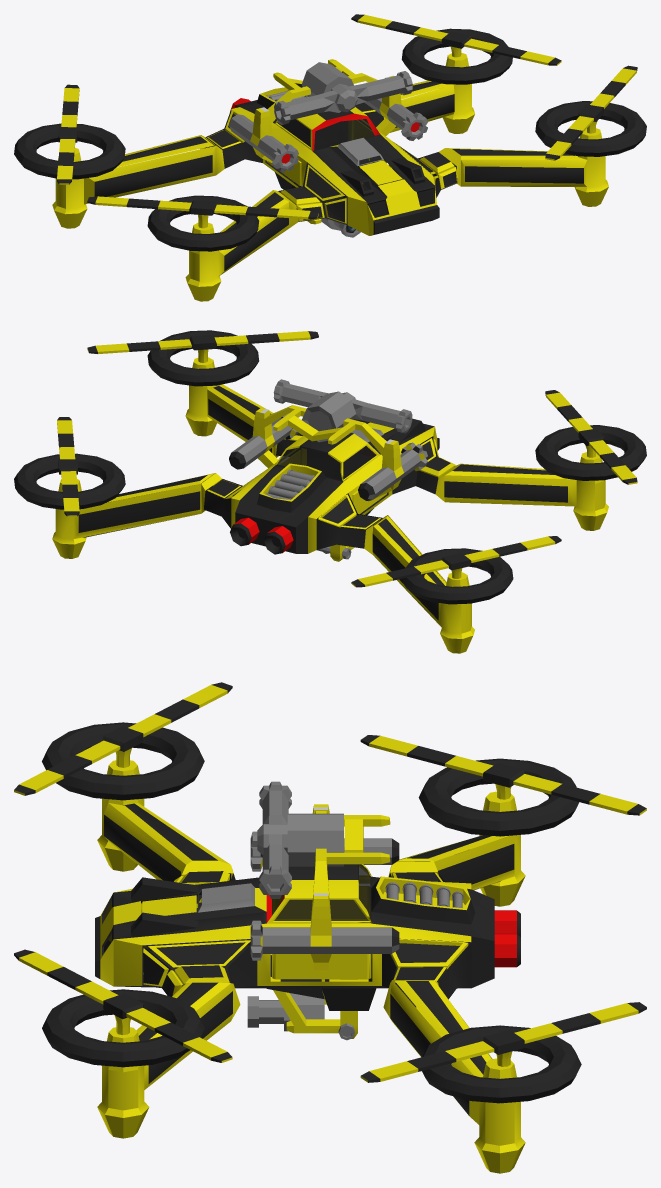
File: drone_costum.dae
3 renders of one model, top to bottom at view 1: azimuth 30°, elevation 25°; view 2: azimuth 150°, elevation 25°; view 3: azimuth 270°, elevation 25°, orthographic. The views are drawn at different scales.
Parts seen in each view (by area): view 1: drone_costum_Cube; view 2: drone_costum_Cube; view 3: drone_costum_Cube.
Part boxes in pixels (box(x1,y1,x2,y2)): drone_costum_Cube: box(14, 14, 646, 301); drone_costum_Cube: box(14, 330, 646, 653); drone_costum_Cube: box(14, 682, 646, 1173).
Size of the model in its own units: 12.4 by 8.76 by 3.35.
Materials: 7 (2 with a texture image).
